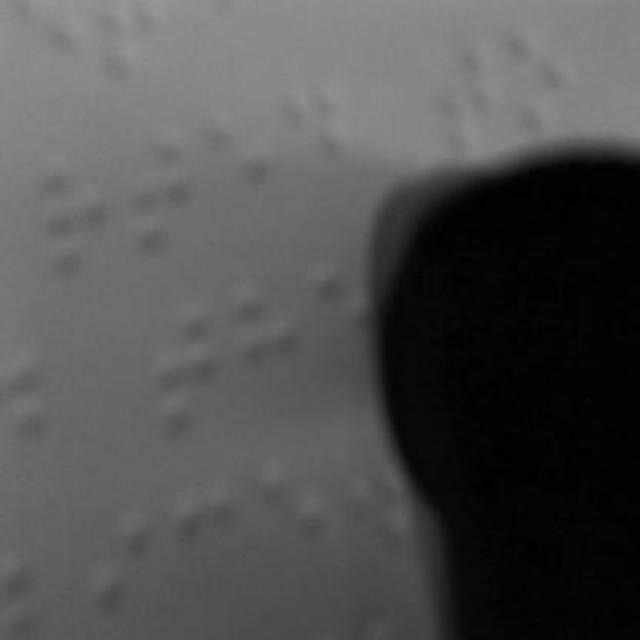braiile: (152, 288, 236, 446), (38, 145, 124, 291), (124, 110, 202, 266), (280, 61, 352, 227), (204, 95, 280, 248), (236, 262, 308, 416), (92, 492, 164, 640), (433, 35, 505, 168), (508, 17, 572, 141)
